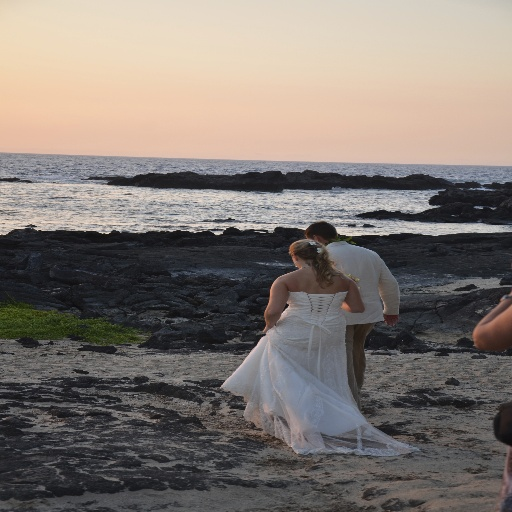hand: (382, 314, 402, 327), (259, 322, 275, 333), (506, 289, 511, 295)
